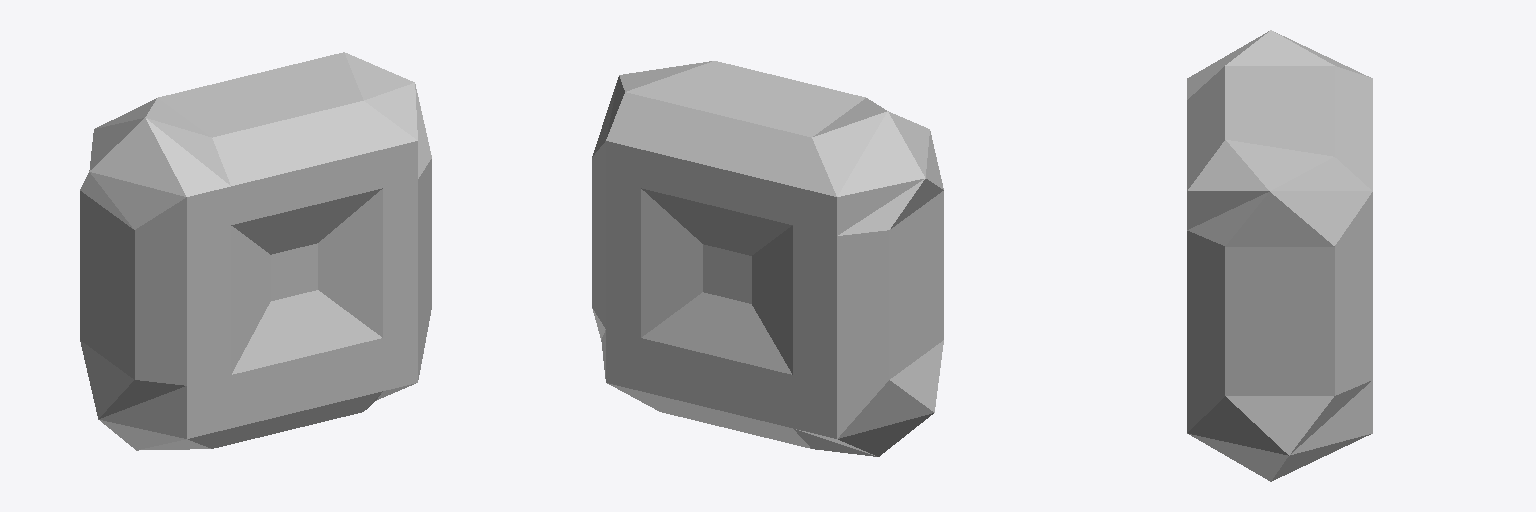
File: upgrade.obj
The picture shows the model from 3 angles: view 1: azimuth 30°, elevation 25°; view 2: azimuth 150°, elevation 25°; view 3: azimuth 270°, elevation 25°; orthographic projection.
Visible parts, largest first — view 1: Object.1; view 2: Object.1; view 3: Object.1.
Part boxes in pixels (left/top/right/bottom): Object.1: left=80, top=52, right=431, bottom=450; Object.1: left=592, top=61, right=943, bottom=456; Object.1: left=1187, top=30, right=1372, bottom=481.
Bounding box in the file's own units: 55.38 × 55.38 × 27.48.